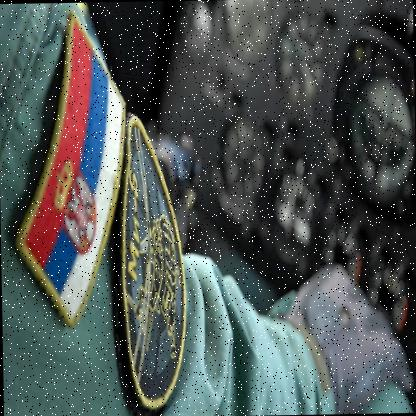rs: (19, 10, 130, 331)
